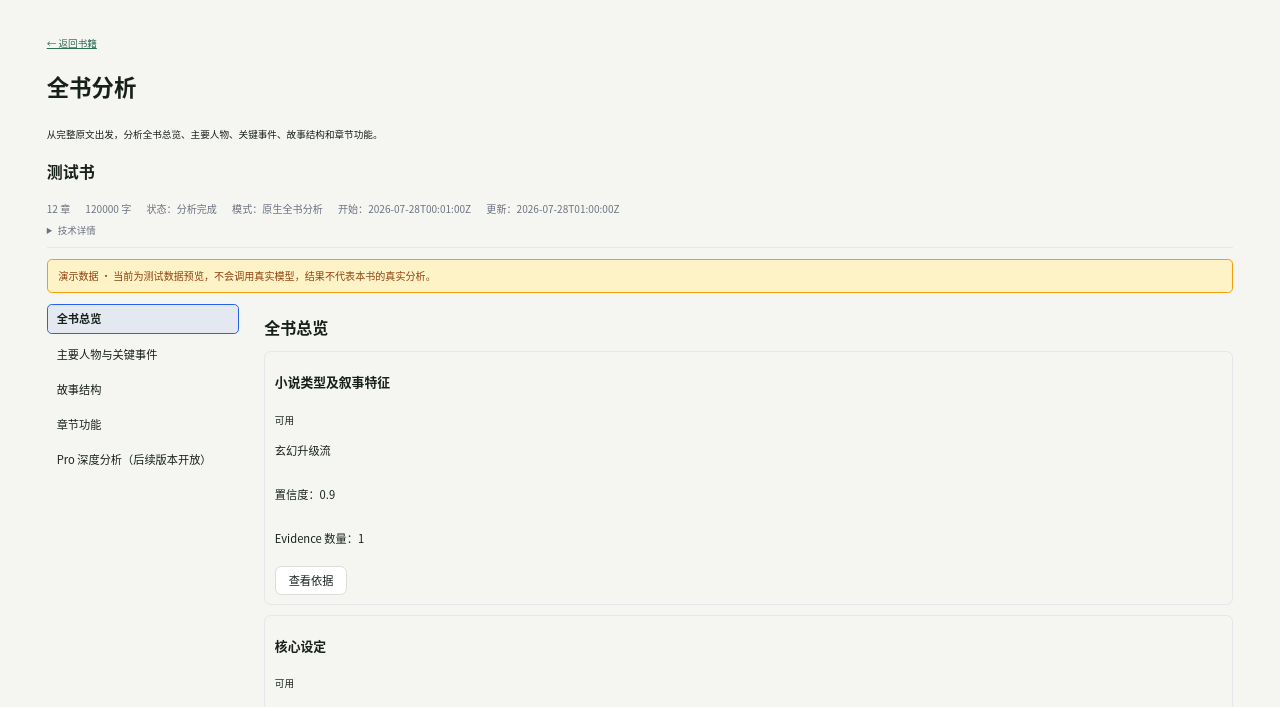
Test: WholeBookFreeProduct (Wave D §18.2) › lists events from key_event_asset_ids
Click the button with test id "whole-book-free-module-characters_events". click: (143, 354)
box: [47,339,239,369]
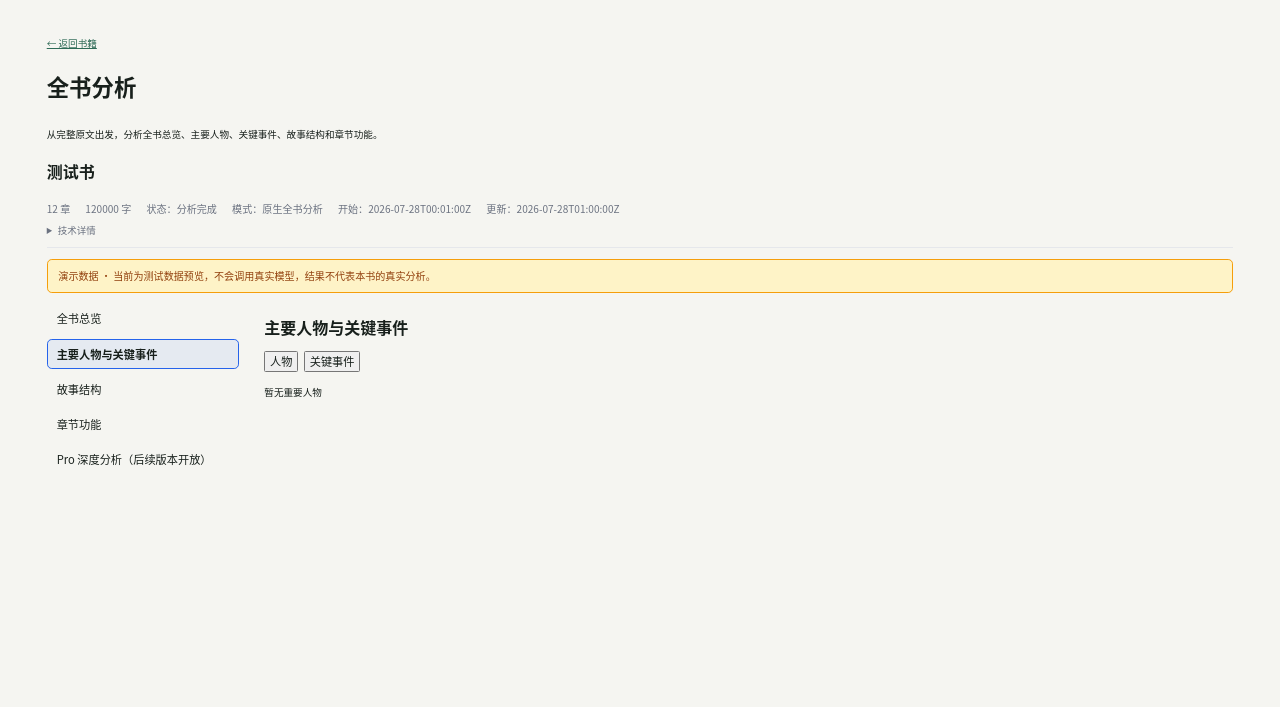
Click the button "关键事件". click: (332, 362)
box: [304,351,360,372]
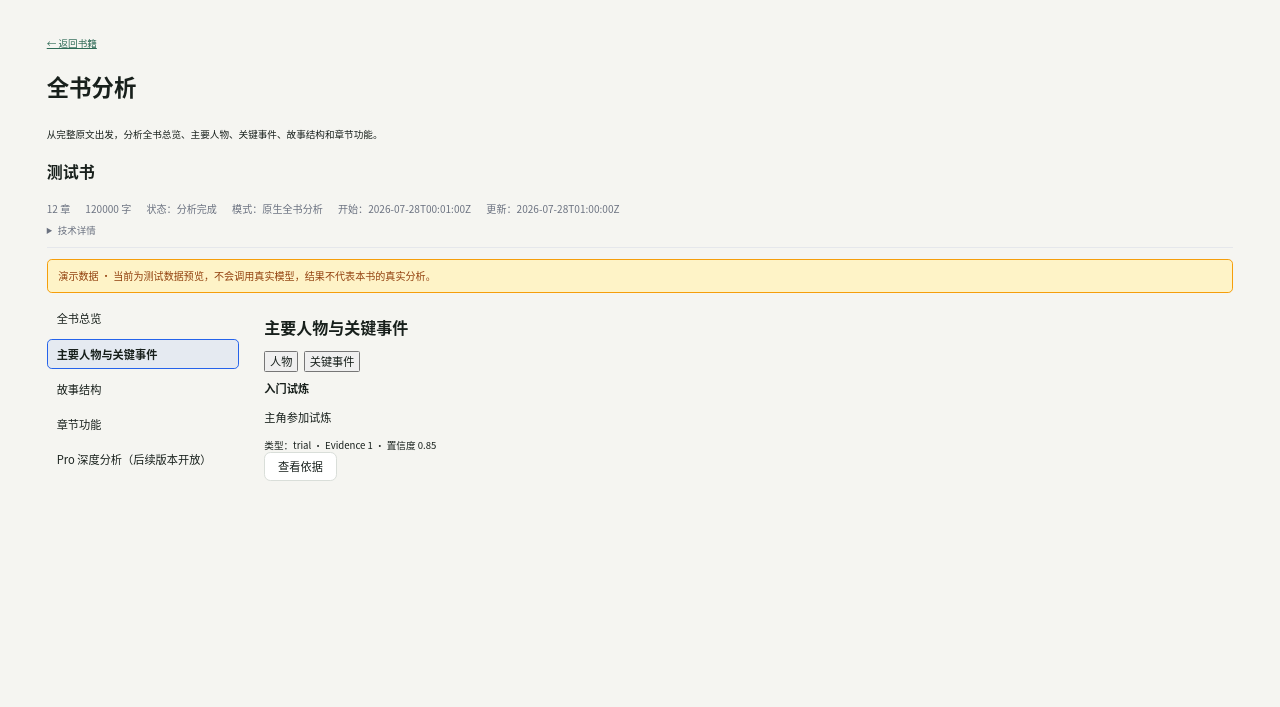
Result: the list item with test id "whole-book-free-event-201" shows "入门试炼" at [264,380,309,396]
